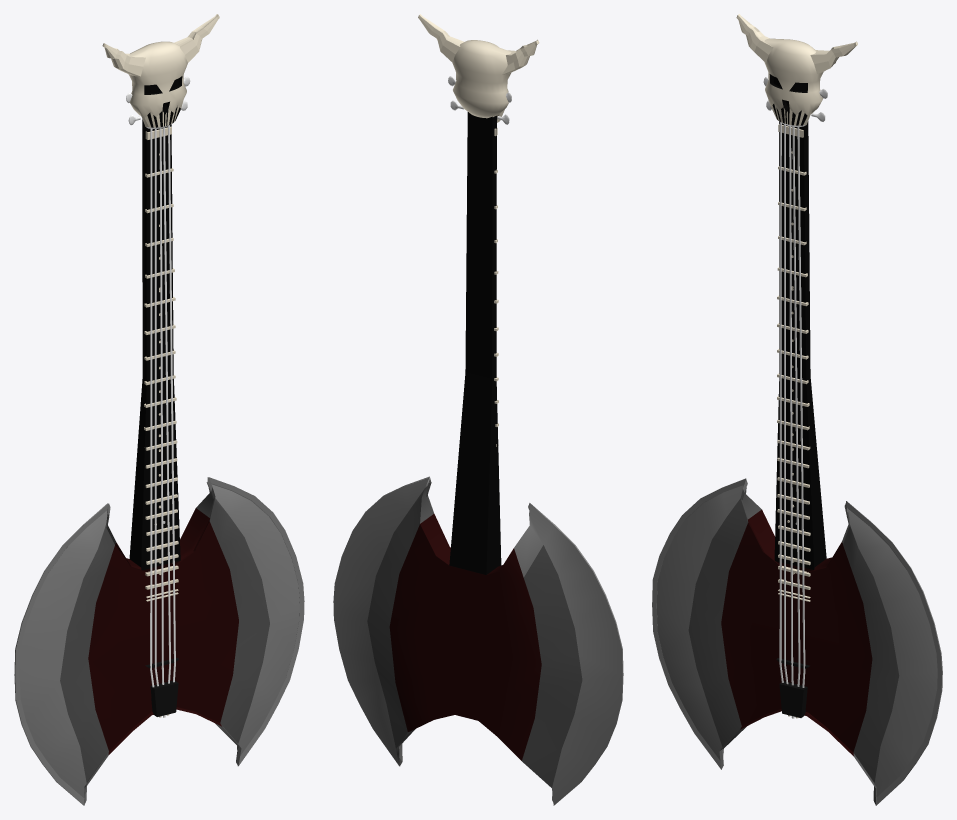
Rendered from minotaur_weapon.FBX.
The picture shows the model from 3 angles, left to right: view 1: azimuth 30°, elevation 25°; view 2: azimuth 150°, elevation 25°; view 3: azimuth 330°, elevation 25°; orthographic projection.
Parts seen in each view (by area): view 1: Cylinder001, Sphere002, Cylinder003, Cylinder004, Cylinder007, Cylinder006, Cylinder005, Box001; view 2: Cylinder001, Sphere002; view 3: Cylinder001, Sphere002, Cylinder003, Cylinder006, Cylinder007, Cylinder005, Cylinder004, Box001.
Part boxes in pixels (box(x1,y1,x2,y2)): Cylinder001: box(14, 119, 304, 805); Sphere002: box(102, 14, 219, 128); Cylinder003: box(150, 128, 154, 687); Cylinder004: box(154, 129, 158, 686); Cylinder007: box(168, 125, 175, 682); Cylinder006: box(163, 127, 170, 683); Cylinder005: box(159, 128, 164, 684); Box001: box(150, 680, 178, 716); Cylinder001: box(333, 112, 623, 805); Sphere002: box(418, 14, 539, 122); Cylinder001: box(652, 121, 942, 805); Sphere002: box(736, 14, 857, 126); Cylinder003: box(779, 122, 783, 682); Cylinder006: box(792, 126, 800, 686); Cylinder007: box(797, 127, 805, 687); Cylinder005: box(789, 126, 793, 685); Cylinder004: box(784, 124, 788, 684); Box001: box(779, 681, 807, 717).
Size of the model in its own units: 112 by 280 by 13.85.
